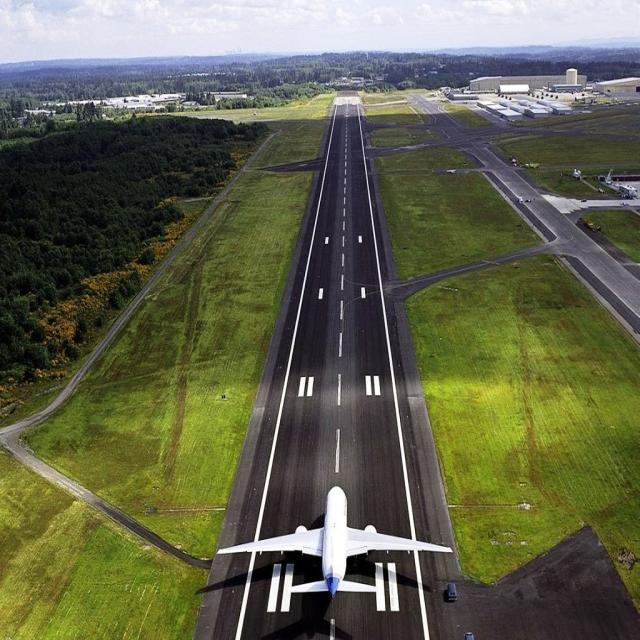plain: (205, 474, 450, 599)
